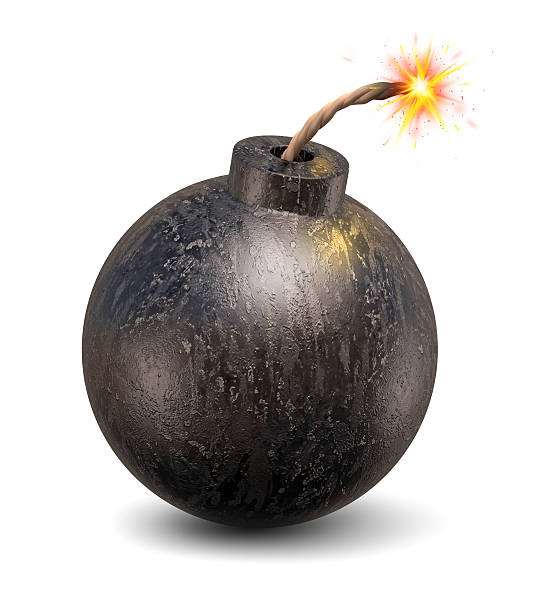e1: (85, 76, 458, 538)
